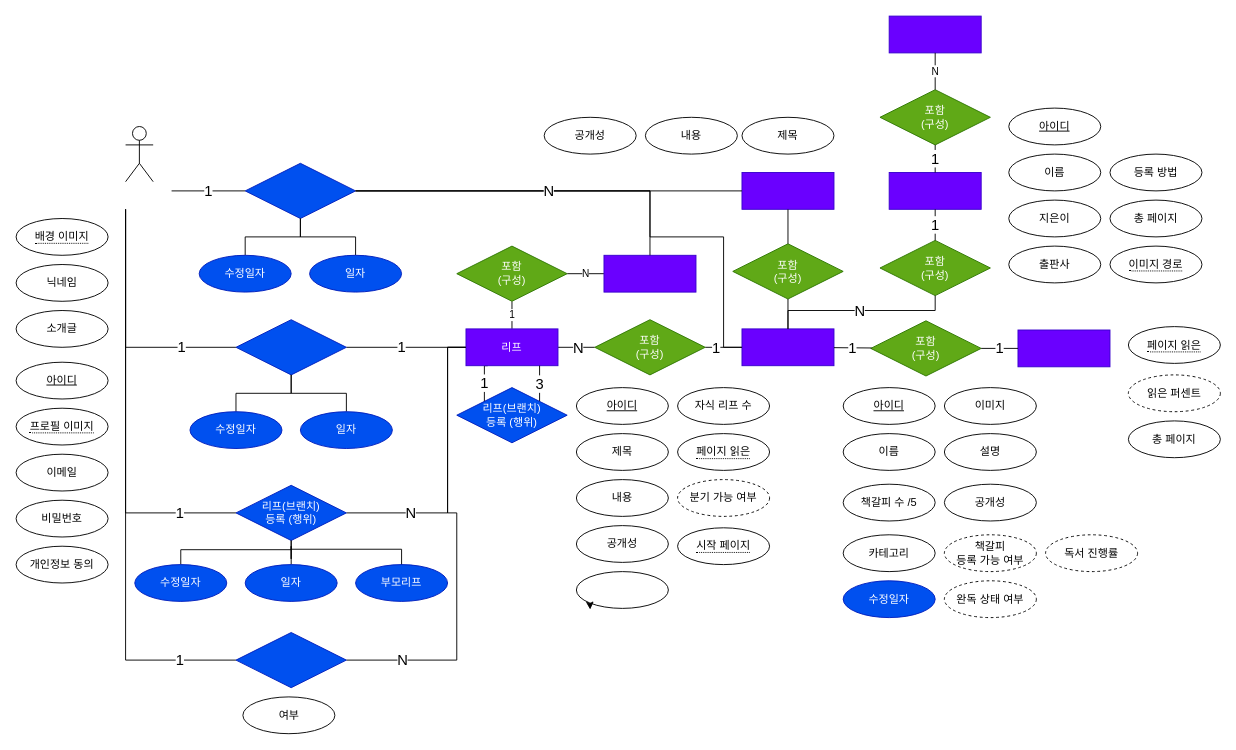
The diagram is 1236 pixels wide and 750 high, and some of its shapes have lost their labels. The centre of each missing label's shape, as x and y in pixels:
"끝 페이지" belongs at (x=621, y=589).
"도서" belongs at (x=934, y=190).
"도서 카테고리" belongs at (x=934, y=34).
"도서 트리 추가 정보" belongs at (x=1063, y=348).
"등록 (행위)" belongs at (x=300, y=190).
"북마크 등록 (행위)" belongs at (x=290, y=660).
"처음 등록 (행위)" belongs at (x=290, y=347).
"태그" belongs at (x=649, y=273).
"트리" belongs at (x=787, y=347).
"회고록" belongs at (x=787, y=190).
"회원" belongs at (x=139, y=154).
